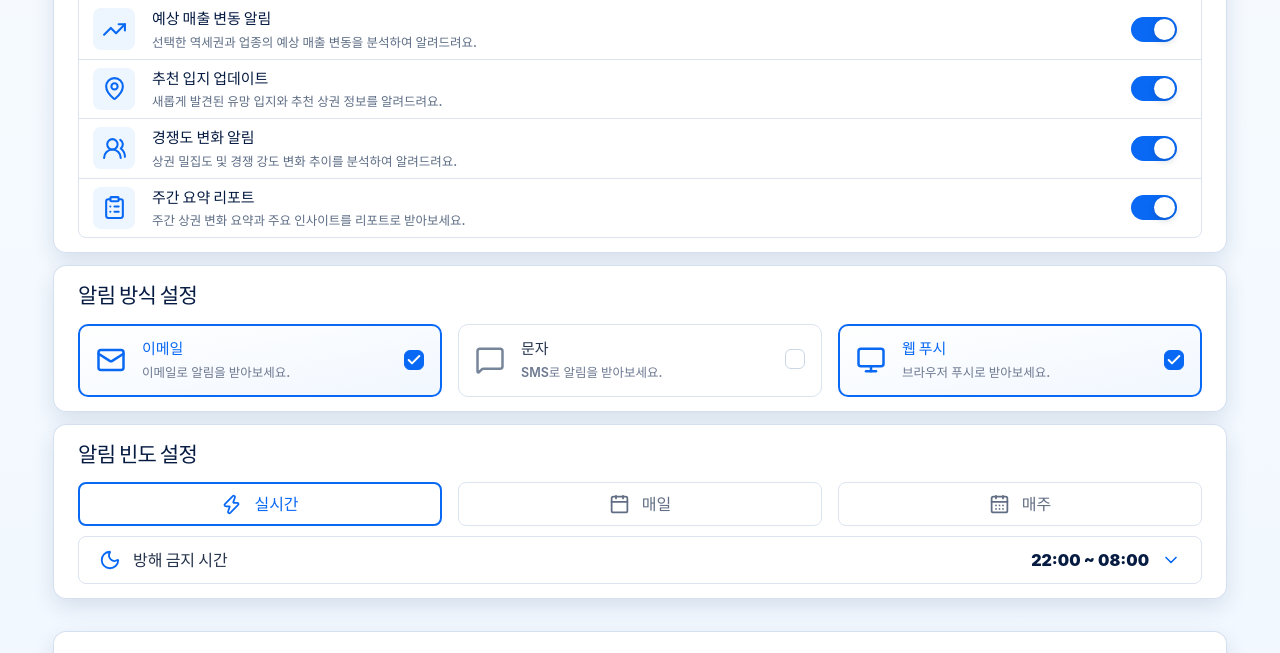
Scenario: OnboardingNotificationsPage › updates channels and frequency selections in the summary
(page scrolled)
Click the button "문자 SMS로 알림을 받아보세요." at (592, 372), box [458, 324, 822, 397]
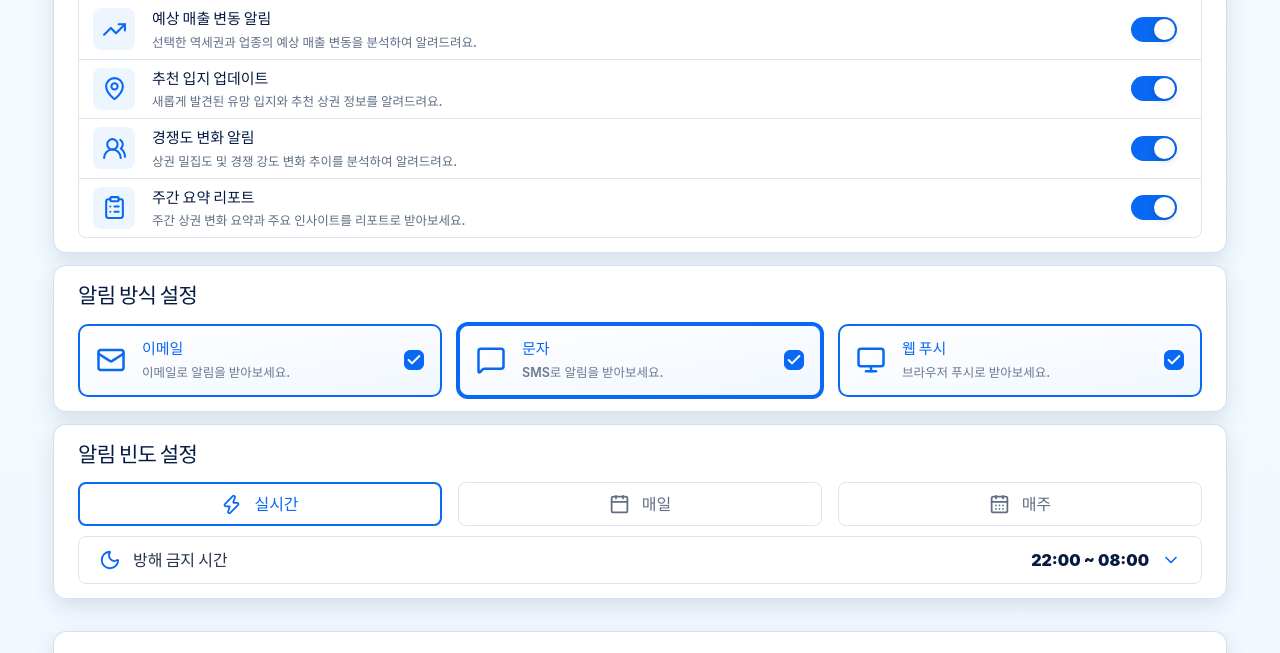
Click the button "매주" at (1020, 504), box [838, 482, 1202, 526]
(page scrolled)
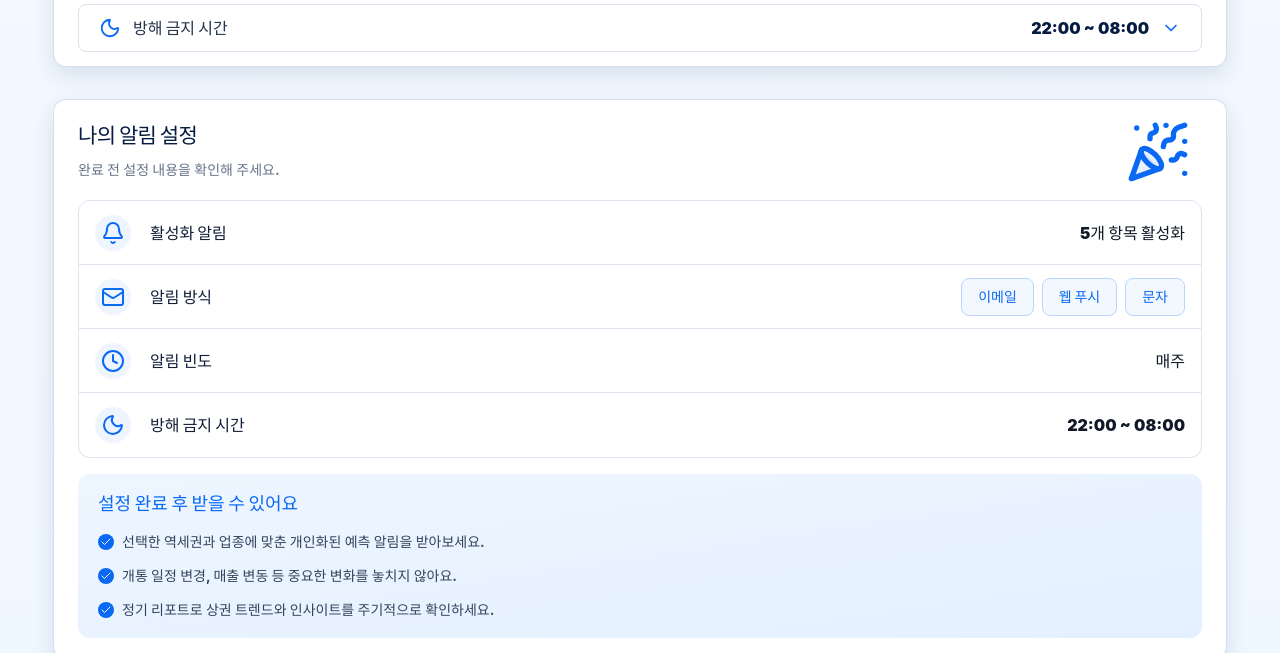
Expected: the text "문자" is shown, [1125, 278, 1185, 316]
Expected: the text "매주" is shown, [1156, 349, 1185, 373]
